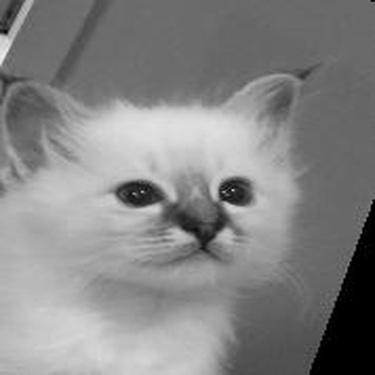cat: (5, 69, 303, 369)
